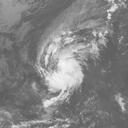cyclone: (34, 36, 83, 93)
